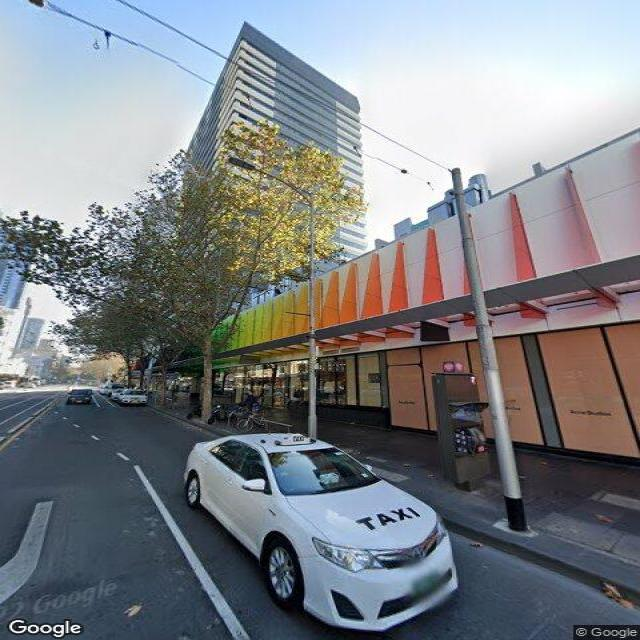steel-pole: (450, 166, 529, 533), (308, 191, 319, 439)
streetlight: (227, 156, 315, 206)
